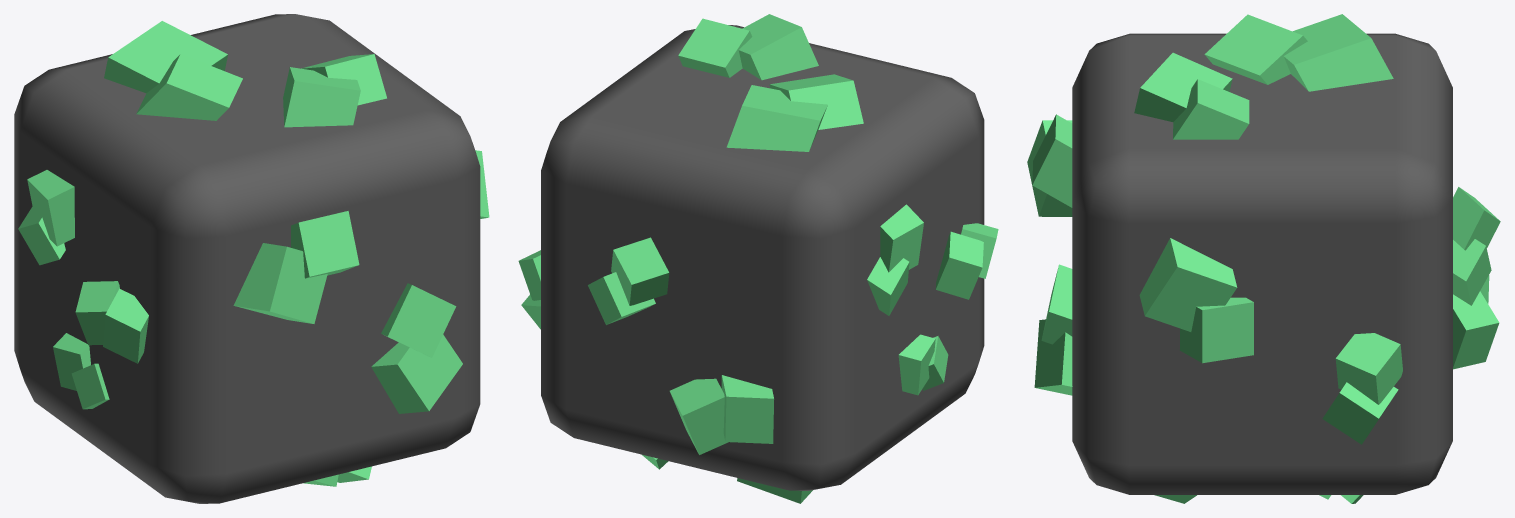
Rendered from SM_Fluorite.fbx.
The picture shows the model from 3 angles, left to right: view 1: azimuth 30°, elevation 25°; view 2: azimuth 150°, elevation 25°; view 3: azimuth 270°, elevation 25°; orthographic projection. The views are drawn at different scales.
Parts seen in each view (by area): view 1: Cube.008; view 2: Cube.008; view 3: Cube.008.
Boxes of the visible parts, bbox=[...] form: Cube.008: bbox=[14, 14, 489, 503]; Cube.008: bbox=[518, 14, 998, 503]; Cube.008: bbox=[1027, 14, 1500, 503].
Size of the model in its own units: 252 by 250 by 252.
